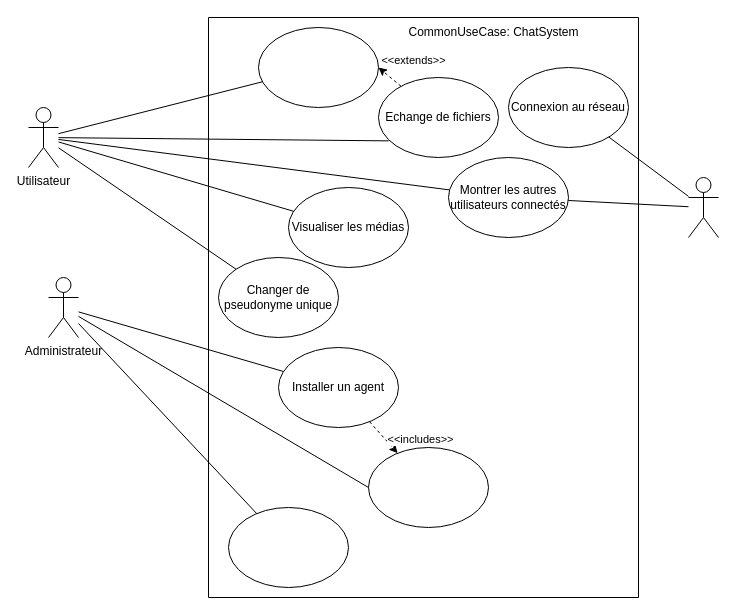
Image size: 741x615. Some labels were removed from this diagram. The centre of each missing label's shape, as x and y in pixels:
"Configurer l'agent" goes at point 428,487.
"Désinstaller un agent" goes at point 288,547.
"Echange de messages textuels" goes at point 318,67.
"Réseau" goes at point 703,207.
